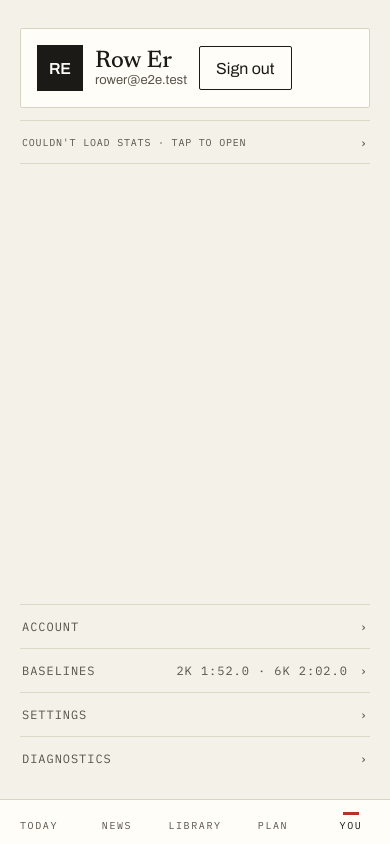
history-aware BACK: the You -> ACCOUNT round trip › returns to You after BACK from the account screen, through the real routed screens
Click the link "ACCOUNT ›": (51, 626) left=20, top=604, right=370, bottom=648
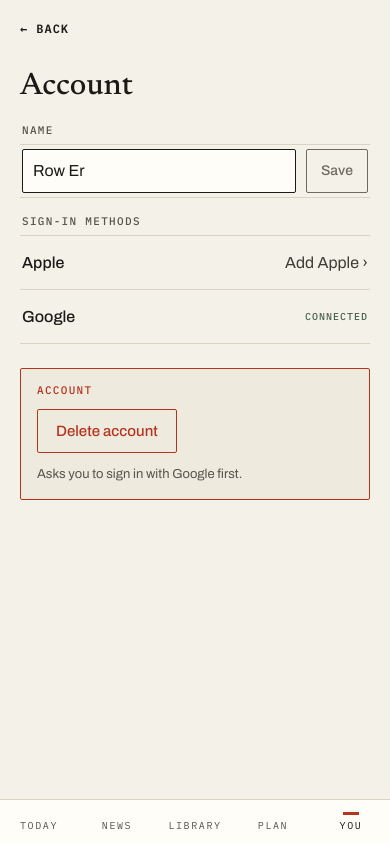
Check: the heading "Account" is shown, box left=20, top=71, right=133, bottom=102
Check: the heading "SIGN-IN METHODS" is shown, box left=22, top=214, right=141, bottom=228
Click the link "← BACK": (44, 28) left=20, top=20, right=69, bottom=36
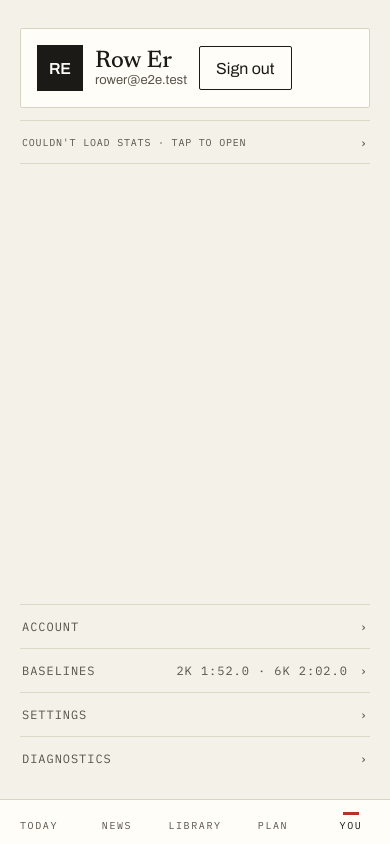
Check: the text "rower@e2e.test" is shown, box left=95, top=73, right=187, bottom=87
